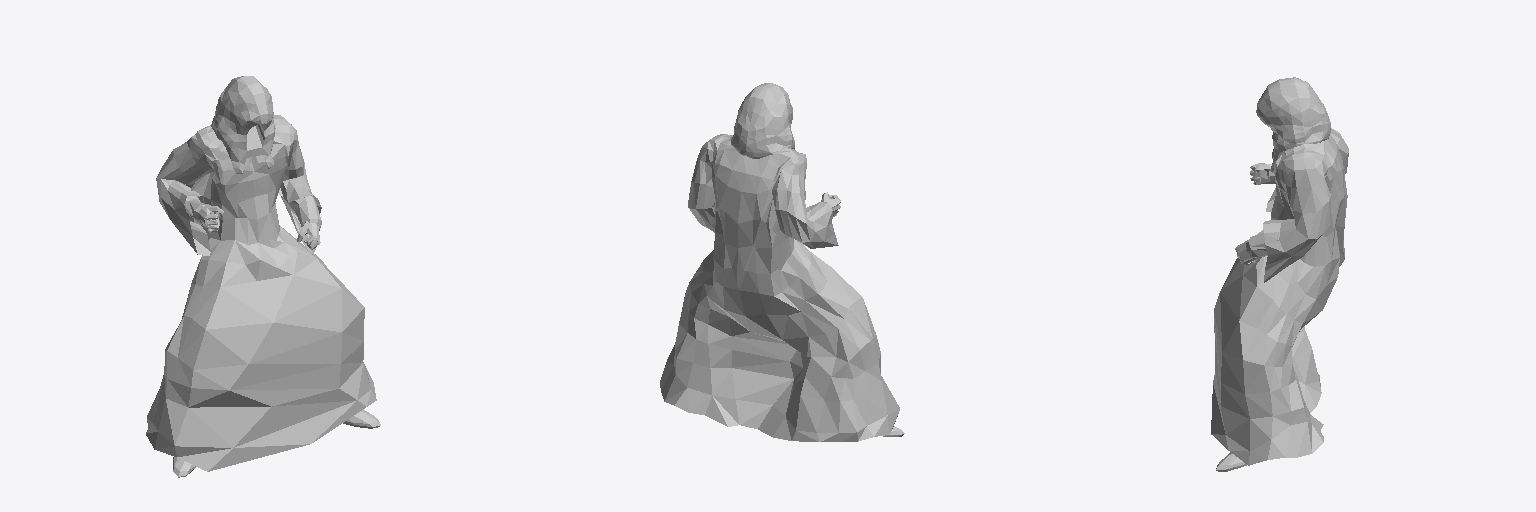
Rendered from Fellbeast_Animate_Flying_38.obj.
3 views of the same model, side by side, from view 1: azimuth 30°, elevation 25°; view 2: azimuth 150°, elevation 25°; view 3: azimuth 270°, elevation 25° (orthographic).
Parts seen in each view (by area): view 1: dm_nazgulrobe_ride_241108; view 2: dm_nazgulrobe_ride_241108; view 3: dm_nazgulrobe_ride_241108.
Part boxes in pixels (x1,y1,x2,y2): dm_nazgulrobe_ride_241108: (146, 76, 380, 477); dm_nazgulrobe_ride_241108: (660, 83, 904, 441); dm_nazgulrobe_ride_241108: (1211, 77, 1348, 471).
Size of the model in its own units: 0.442 by 0.6639 by 0.2367.